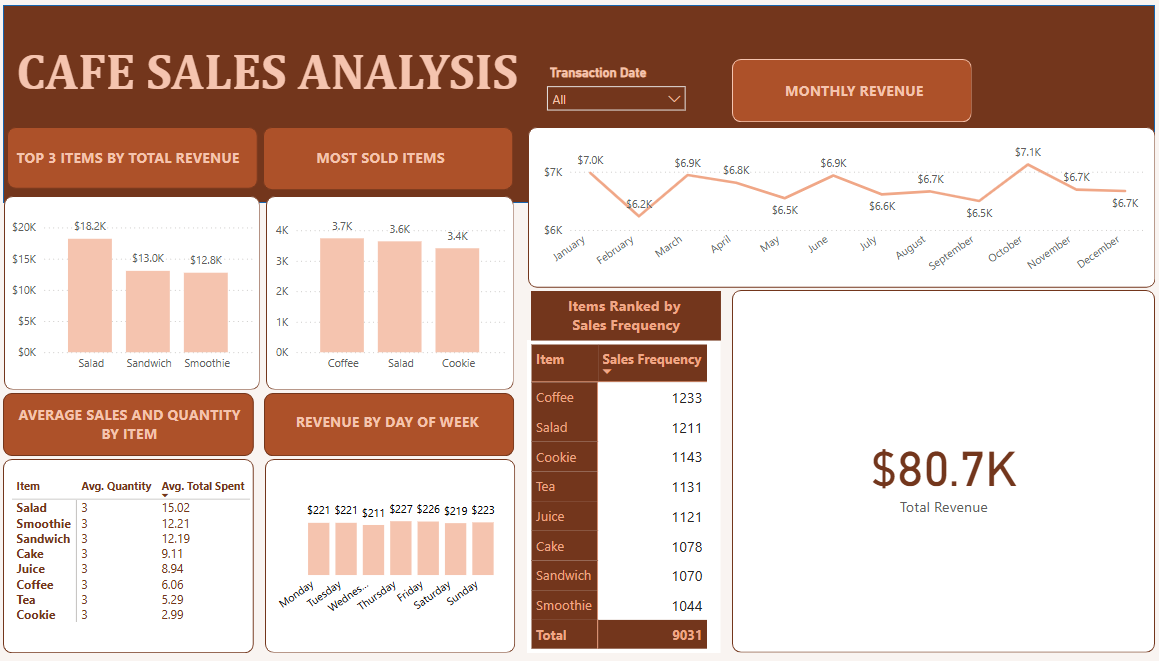

The page's visual inventory and layout, read from the dashboard file:
{"tool":"powerbi","page":{"name":"Page 1","canvas":[1280,720],"ordinal":0},"visuals":[{"type":"shape","box":[0,0,1280,220],"z":0},{"type":"group","id":"g1","title":"Group 1","box":[582.9,135.7,697.1,178.6],"z":0,"group":"g4"},{"type":"textbox","box":[10,35.7,700,87.1],"z":1000},{"type":"shape","box":[582.9,135.7,697.1,178.6],"z":1000,"group":"g1"},{"type":"lineChart","fields":{"Y":["Analysis.Total Revenue"],"Category":["public cleaned_cafe_sales.Transaction Date.Variation.Date Hierarchy.Month"]},"box":[589.1,139.4,683.3,171.1],"z":1000,"group":"g4"},{"type":"shape","box":[810,317.1,470,402.9],"z":1000,"group":"g2"},{"type":"shape","box":[0,431.4,278.6,70],"z":2000},{"type":"shape","box":[288.6,135.7,277.9,70.1],"z":3000,"group":"g5"},{"type":"shape","box":[0.7,211.9,284.3,215.5],"z":3000,"group":"g6"},{"type":"textbox","box":[5.7,438.6,270,65.7],"z":3000},{"type":"shape","box":[4.3,135.7,278.6,68.6],"z":4000},{"type":"textbox","box":[10,152.9,277.1,51.4],"z":5000},{"type":"shape","box":[290.1,431.2,277.9,70.1],"z":6000,"group":"g9"},{"type":"shape","box":[0,504.3,278.6,215.7],"z":6000},{"type":"group","id":"g2","title":"Group 1","box":[810,317.1,470,402.9],"z":7000},{"type":"textbox","box":[291.7,447.3,271.6,59],"z":7000,"group":"g9"},{"type":"shape","box":[291.4,504.3,277.9,215.5],"z":7000,"group":"g10"},{"type":"group","id":"g3","title":"Group 2","box":[582.6,317.5,215.5,402.9],"z":8000},{"type":"group","id":"g4","title":"Group 3","box":[582.9,135.7,697.1,178.6],"z":9000},{"type":"columnChart","fields":{"Y":["Analysis.Total Revenue"],"Category":["public cleaned_cafe_sales.Item"]},"box":[4,223.4,278.8,192.5],"z":9000,"group":"g6"},{"type":"group","id":"g5","title":"Group 5","box":[288.6,135.7,278.6,70],"z":10000},{"type":"shape","box":[292.6,211.9,275.4,215.5],"z":10000,"group":"g7"},{"type":"group","id":"g6","title":"Group 4","box":[0.7,211.9,284.3,215.5],"z":11000},{"type":"group","id":"g7","title":"Group 6","box":[292.6,211.9,275.4,215.5],"z":12000},{"type":"card","fields":{"Values":["Analysis.Total Revenue"]},"box":[837.4,365.8,415.1,307.3],"z":12000,"group":"g2"},{"type":"slicer","fields":{"Values":["public cleaned_cafe_sales.Transaction Date.Variation.Date Hierarchy.Year","public cleaned_cafe_sales.Transaction Date.Variation.Date Hierarchy.Month"]},"box":[594.9,61.7,174,65.4],"z":13000},{"type":"columnChart","fields":{"Y":["Sum(public cleaned_cafe_sales.Quantity)"],"Category":["public cleaned_cafe_sales.Item"]},"box":[298,223.4,264.7,192.5],"z":13000,"group":"g7"},{"type":"group","id":"g8","title":"Group 7","box":[809.7,60.5,271.6,118.5],"z":14000},{"type":"pivotTable","fields":{"Rows":["public cleaned_cafe_sales.Item"],"Values":["Avg(public cleaned_cafe_sales.Quantity)","Avg(public cleaned_cafe_sales.Total Spent)"]},"box":[9.6,525.6,265.2,181],"z":15000},{"type":"shape","box":[809.7,60.5,266.5,70.1],"z":16000,"group":"g8"},{"type":"group","id":"g9","title":"Group 8","box":[290.1,431.2,277.9,75.2],"z":16000},{"type":"textbox","box":[810.2,79.6,271.6,100],"z":17000,"group":"g8"},{"type":"group","id":"g10","title":"Group 9","box":[291.4,504.3,278.6,214.3],"z":17000},{"type":"columnChart","fields":{"Y":["Analysis.Avg Revenue by Day"],"Category":["public cleaned_cafe_sales.DayOfWeek"]},"box":[297.8,536.2,265.2,151.7],"z":17000,"group":"g10"},{"type":"textbox","box":[303.7,153.3,230,51.4],"z":18000,"group":"g5"},{"type":"pivotTable","fields":{"Rows":["public cleaned_cafe_sales.Item"],"Values":["Analysis.Sales Frequency"]},"box":[582.6,372.3,215.5,348],"z":20000,"group":"g3"},{"type":"shape","box":[586.6,317.5,211.5,54.8],"z":20500,"group":"g3"},{"type":"textbox","box":[597.2,317.5,191.5,54.8],"z":21000,"group":"g3"}]}

Visuals, with their boxes in screenshot pixels (x1, y1, x2, y2), scaled from the page's 1280x720 canvas onto the 1159x661 screenshot:
shape: bbox(0, 0, 1158, 202)
"Group 1" group: bbox(528, 125, 1158, 289)
textbox: bbox(9, 33, 643, 113)
shape: bbox(528, 125, 1158, 289)
lineChart - Analysis.Total Revenue x public cleaned_cafe_sales.Transaction Date.Variation.Date Hierarchy.Month: bbox(533, 128, 1152, 285)
shape: bbox(733, 291, 1158, 660)
shape: bbox(0, 396, 252, 460)
shape: bbox(261, 125, 513, 189)
shape: bbox(1, 195, 258, 392)
textbox: bbox(5, 403, 250, 463)
shape: bbox(4, 125, 256, 188)
textbox: bbox(9, 140, 260, 188)
shape: bbox(263, 396, 514, 460)
shape: bbox(0, 463, 252, 660)
"Group 1" group: bbox(733, 291, 1158, 660)
textbox: bbox(264, 411, 510, 465)
shape: bbox(264, 463, 515, 660)
"Group 2" group: bbox(528, 291, 723, 660)
"Group 3" group: bbox(528, 125, 1158, 289)
columnChart - Analysis.Total Revenue x public cleaned_cafe_sales.Item: bbox(4, 205, 256, 382)
"Group 5" group: bbox(261, 125, 514, 189)
shape: bbox(265, 195, 514, 392)
"Group 4" group: bbox(1, 195, 258, 392)
"Group 6" group: bbox(265, 195, 514, 392)
card - Analysis.Total Revenue: bbox(758, 336, 1134, 618)
slicer - public cleaned_cafe_sales.Transaction Date.Variation.Date Hierarchy.Year x public cleaned_cafe_sales.Transaction Date.Variation.Date Hierarchy.Month: bbox(539, 57, 696, 117)
columnChart - Sum(public cleaned_cafe_sales.Quantity) x public cleaned_cafe_sales.Item: bbox(270, 205, 510, 382)
"Group 7" group: bbox(733, 56, 979, 164)
pivotTable - public cleaned_cafe_sales.Item x Avg(public cleaned_cafe_sales.Quantity): bbox(9, 483, 249, 649)
shape: bbox(733, 56, 974, 120)
"Group 8" group: bbox(263, 396, 514, 465)
textbox: bbox(734, 73, 980, 165)
"Group 9" group: bbox(264, 463, 516, 660)
columnChart - Analysis.Avg Revenue by Day x public cleaned_cafe_sales.DayOfWeek: bbox(270, 492, 510, 632)
textbox: bbox(275, 141, 483, 188)
pivotTable - public cleaned_cafe_sales.Item x Analysis.Sales Frequency: bbox(528, 342, 723, 660)
shape: bbox(531, 291, 723, 342)
textbox: bbox(541, 291, 714, 342)
